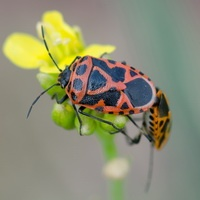insect: (27, 25, 170, 191), (83, 99, 140, 138)
